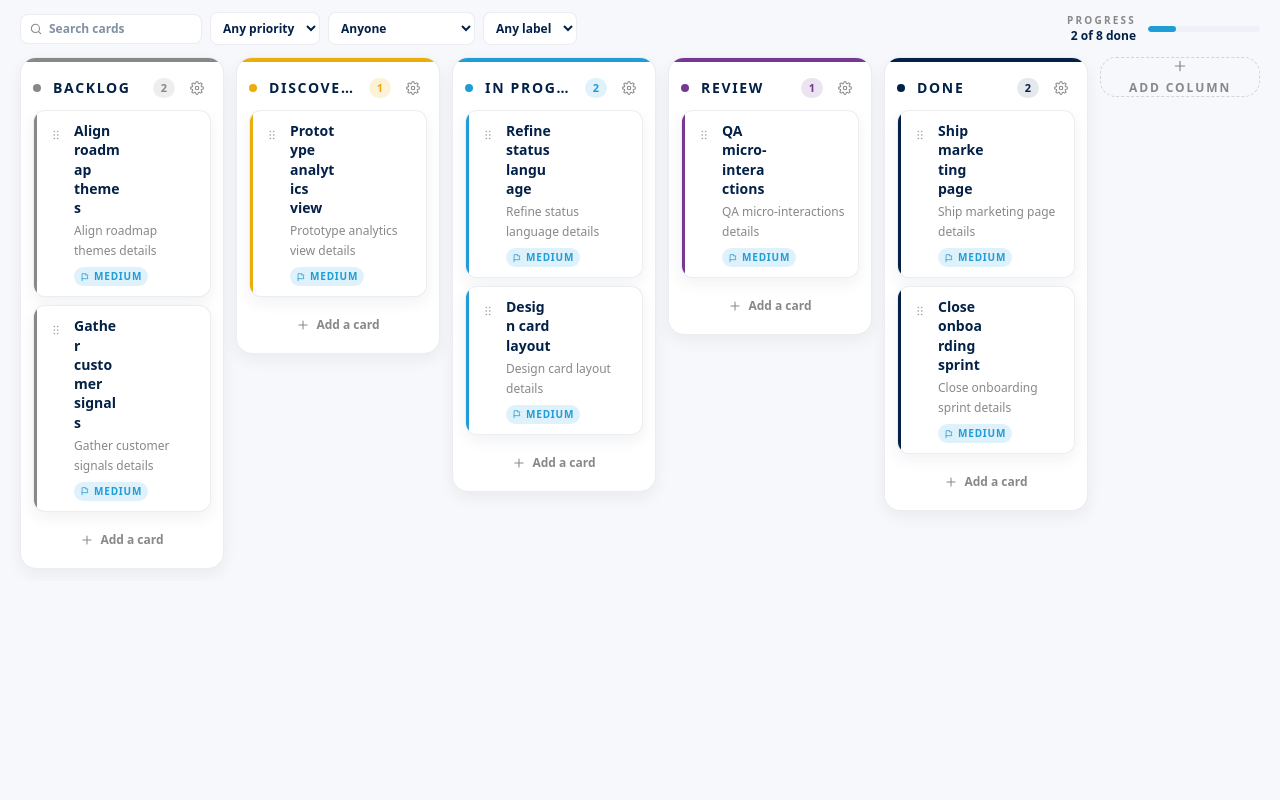
Scenario: KanbanBoard › clears the filters
Type "roadmap" into the field labelled "Search cards" at {"x": 121, "y": 28}, box [49, 14, 193, 42]
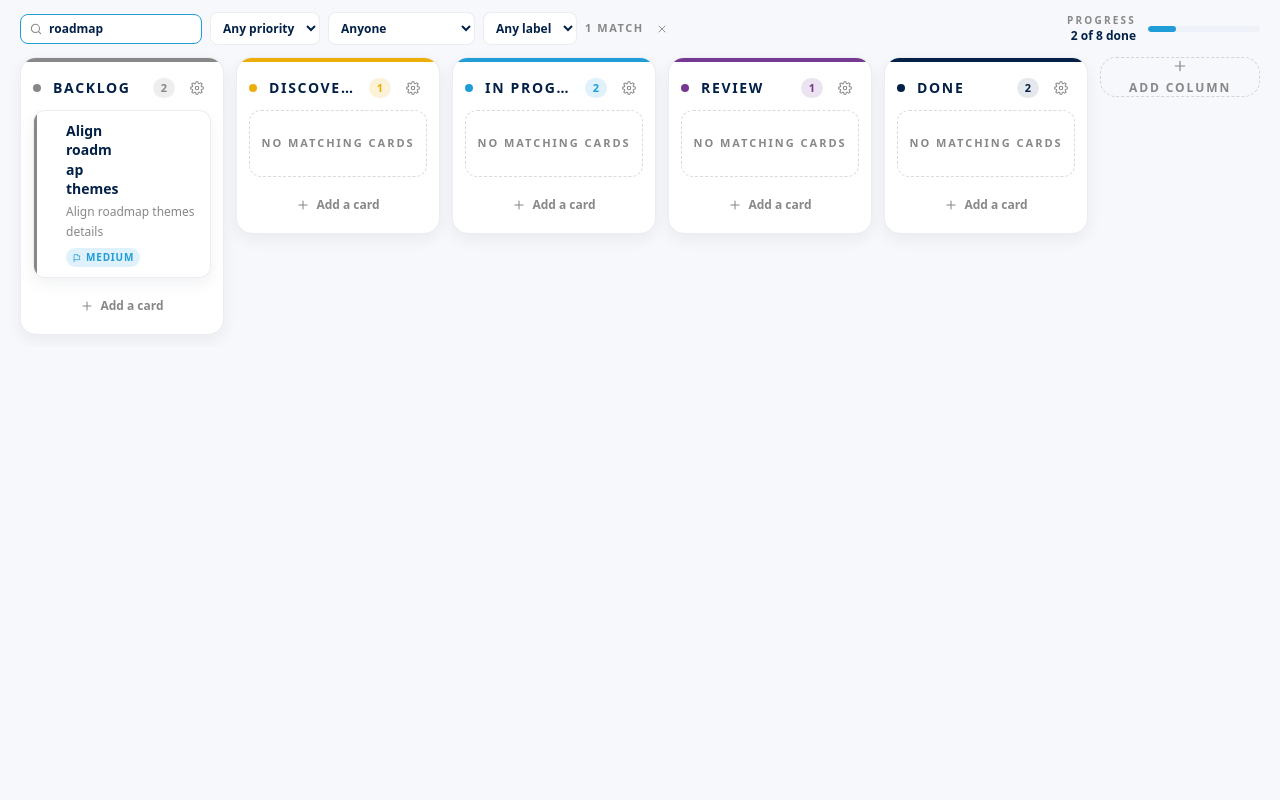
Click the button named "clear filters" at {"x": 662, "y": 28}, box [648, 14, 676, 42]
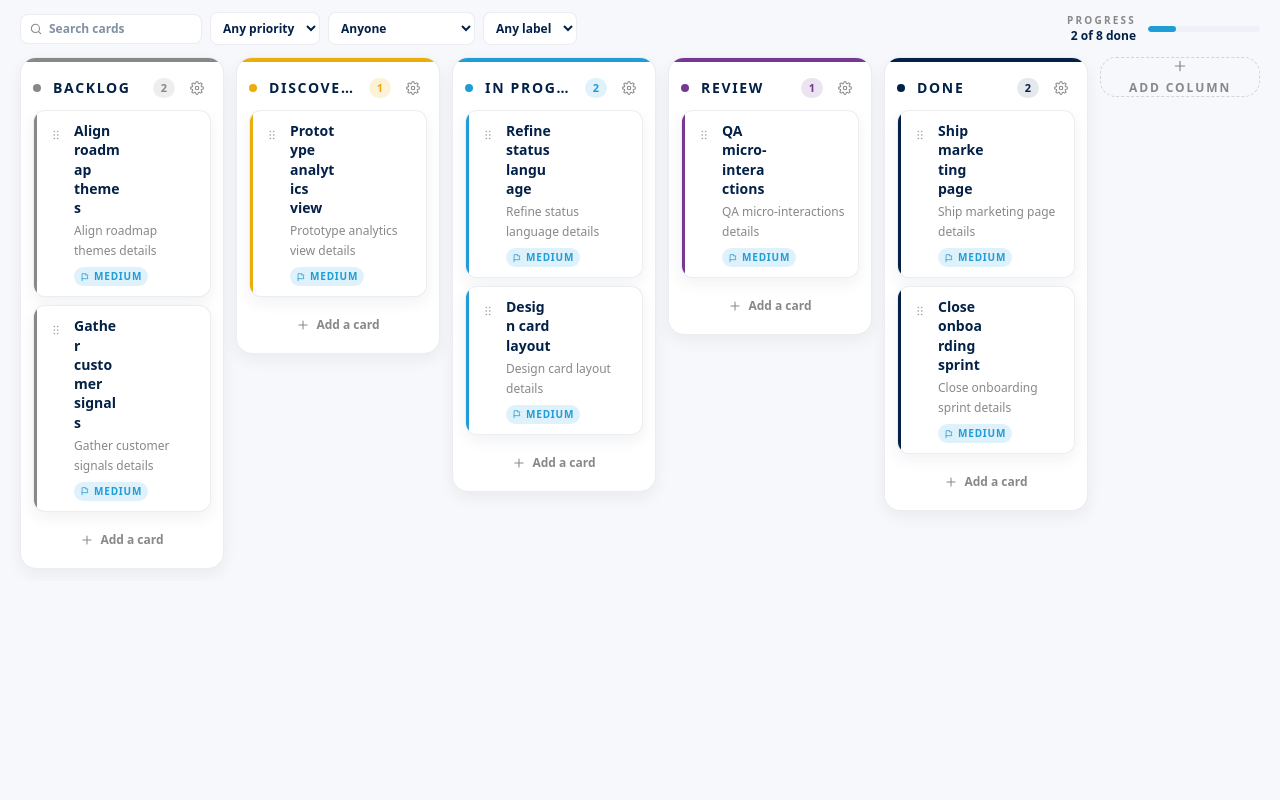
Check: the element with test id "card-card-2" is shown, box [33, 305, 211, 512]
